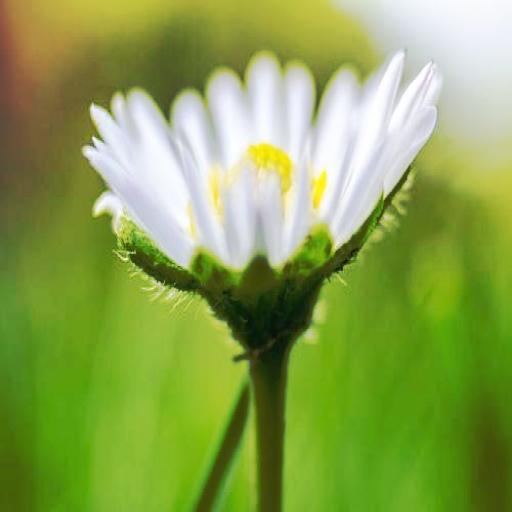daisy: (93, 44, 432, 308)
